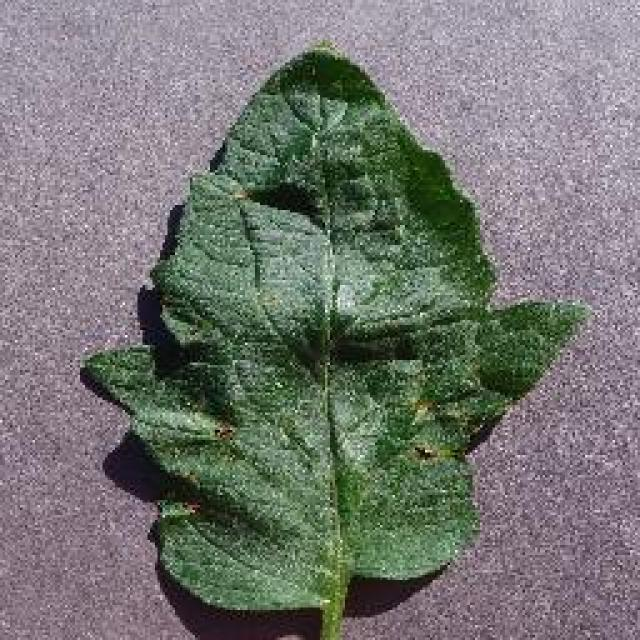Tomato Septoria spot leaf: (80, 46, 590, 616)
